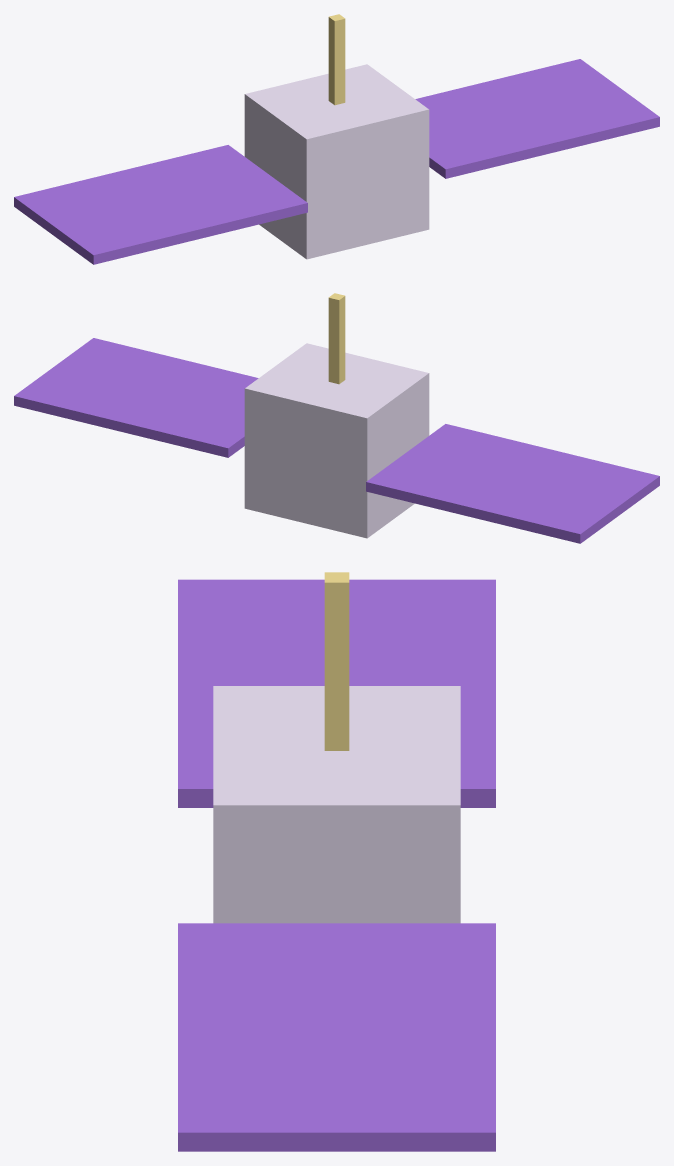
3 renders of one model, top to bottom at view 1: azimuth 30°, elevation 25°; view 2: azimuth 150°, elevation 25°; view 3: azimuth 270°, elevation 25°, orthographic. The views are drawn at different scales.
Parts seen in each view (by area): view 1: Body, Left array, Right array, Antenna; view 2: Body, Left array, Right array, Antenna; view 3: Right array, Body, Left array, Antenna.
Boxes of the visible parts, <box> form: Body: <box>244,64,429,259</box>; Left array: <box>14,145,307,264</box>; Right array: <box>415,59,659,178</box>; Antenna: <box>328,14,345,105</box>; Body: <box>244,343,429,538</box>; Left array: <box>366,424,659,543</box>; Right array: <box>14,338,258,457</box>; Antenna: <box>328,293,345,384</box>; Right array: <box>178,923,495,1151</box>; Body: <box>213,686,460,923</box>; Left array: <box>178,579,495,807</box>; Antenna: <box>324,572,349,750</box>.
Size of the model in its own units: 3.7 by 1.27 by 0.9.
